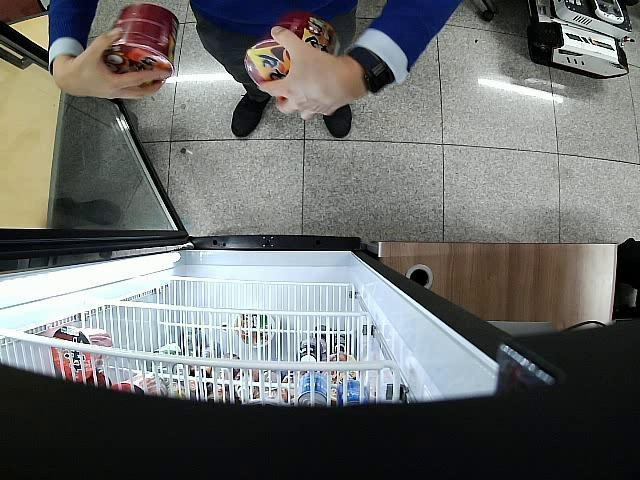05_nuguri_L: (244, 13, 342, 84), (101, 4, 179, 80)
